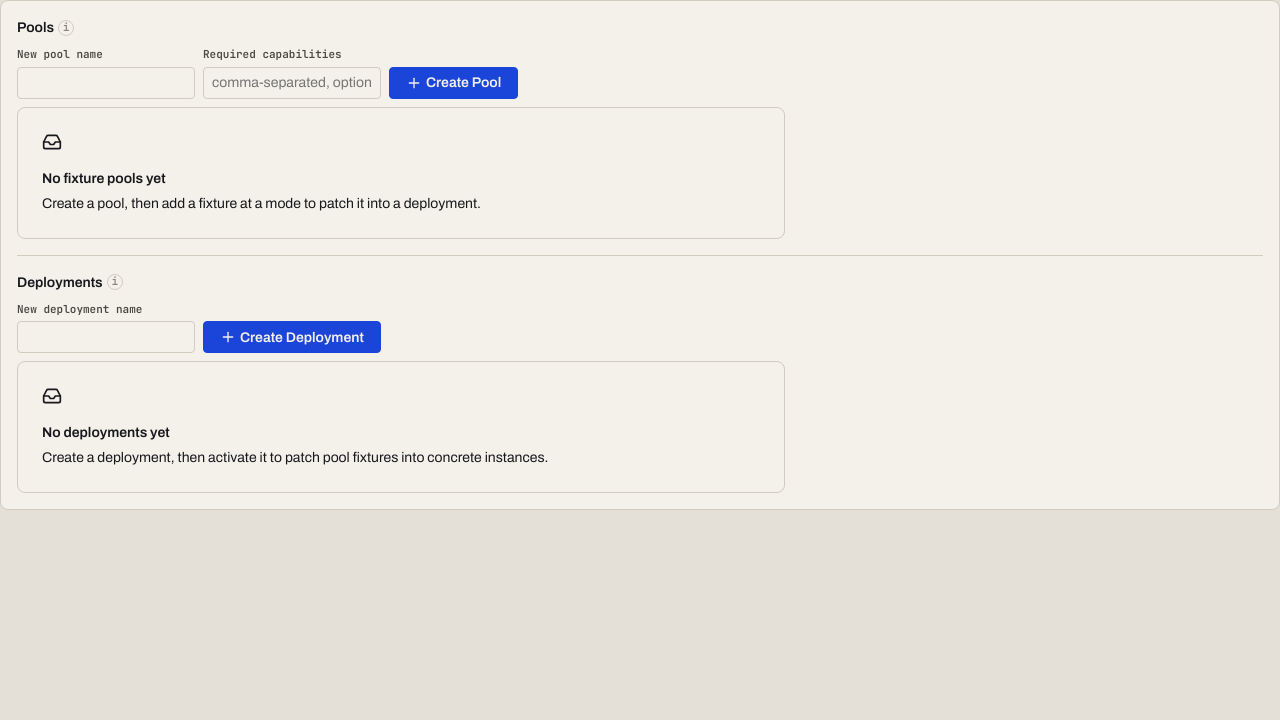
Test case: FixturePatch › creates a pool from the create-pool form
The image size is (1280, 720).
Expected: the heading "No fixture pools yet" is shown, [42, 170, 166, 186]
Type "Wash" into the field labelled "New pool name" at [106, 82], box [17, 66, 195, 98]
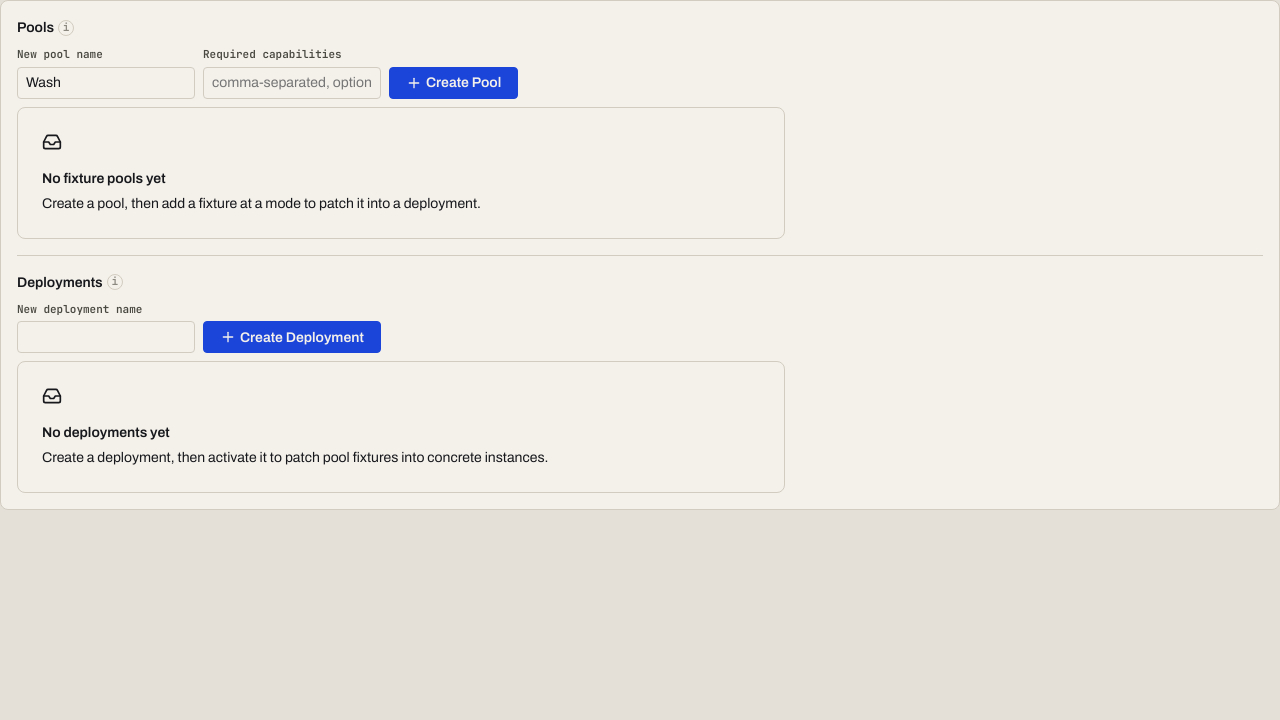
Click the button "Create Pool" at [454, 82], box [389, 66, 518, 98]
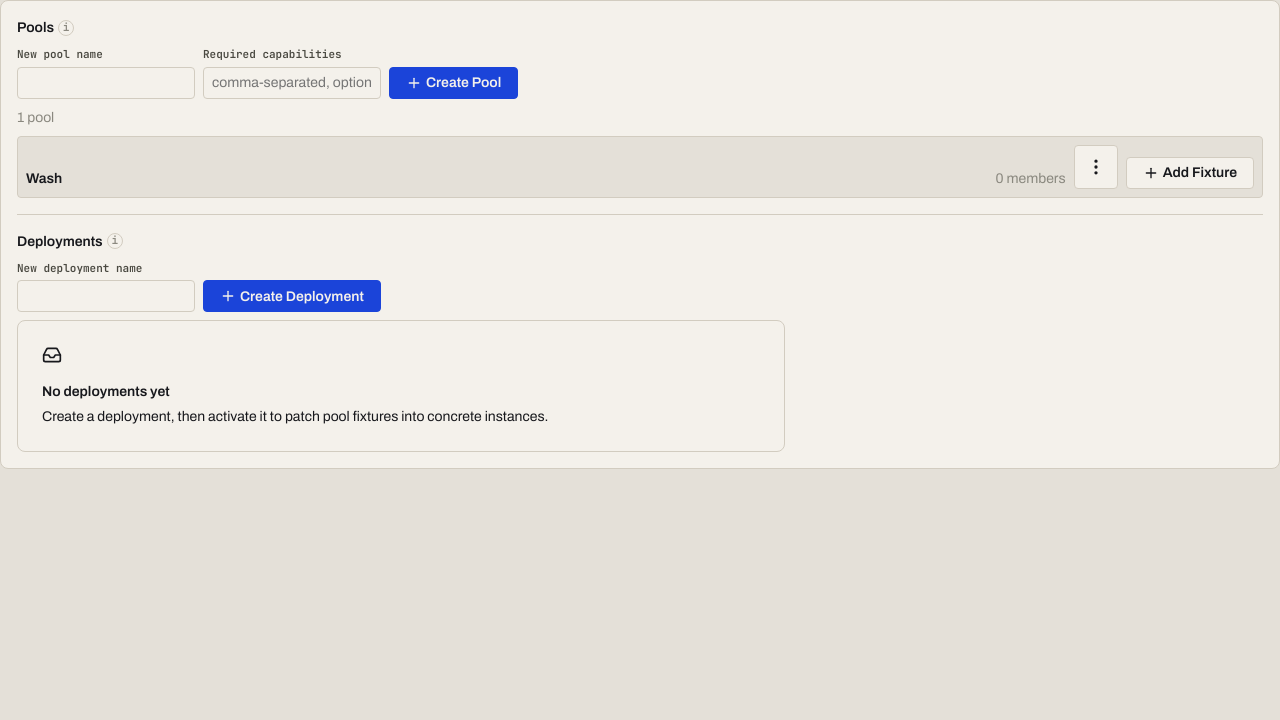
Expected: the text "Wash" is shown, [26, 170, 62, 186]
